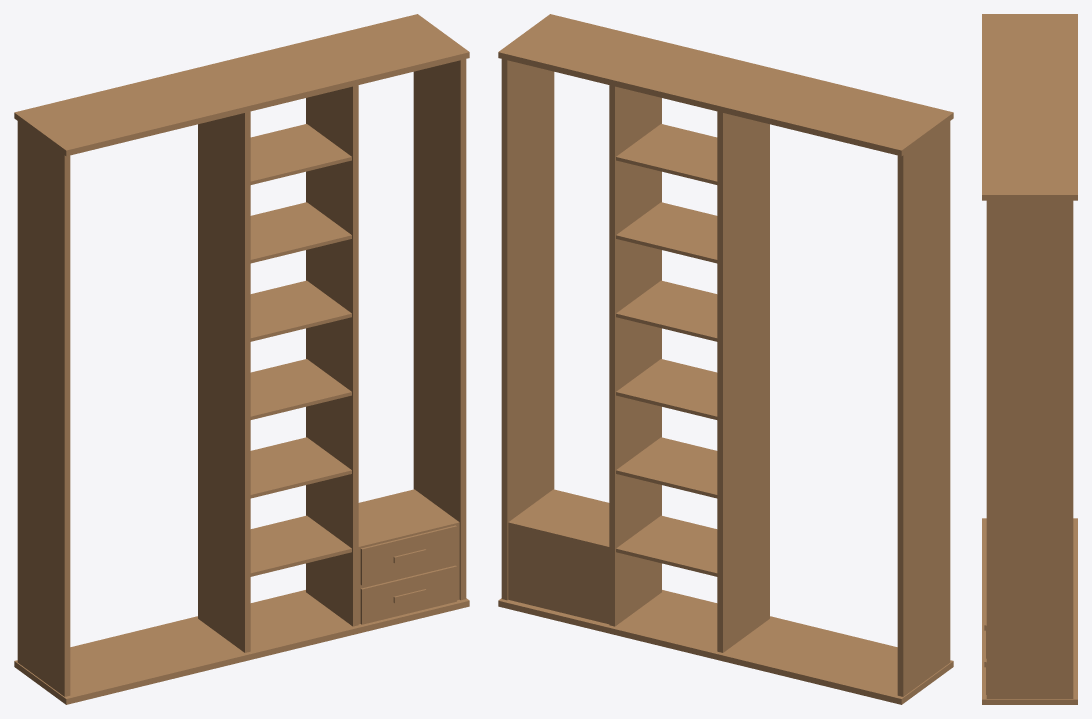
The model's file is regal_gross.glb.
3 renders of one model, left to right at view 1: azimuth 30°, elevation 25°; view 2: azimuth 150°, elevation 25°; view 3: azimuth 270°, elevation 25°, orthographic. The views are drawn at different scales.
Parts seen in each view (by area): view 1: Shelf_Large; view 2: Shelf_Large; view 3: Shelf_Large.
Boxes of the visible parts, x1,y1,x2,y2 form: Shelf_Large: (14, 14, 469, 704); Shelf_Large: (498, 14, 953, 704); Shelf_Large: (982, 14, 1077, 704).
Size of the model in its own units: 1.52 by 2 by 0.3407.
